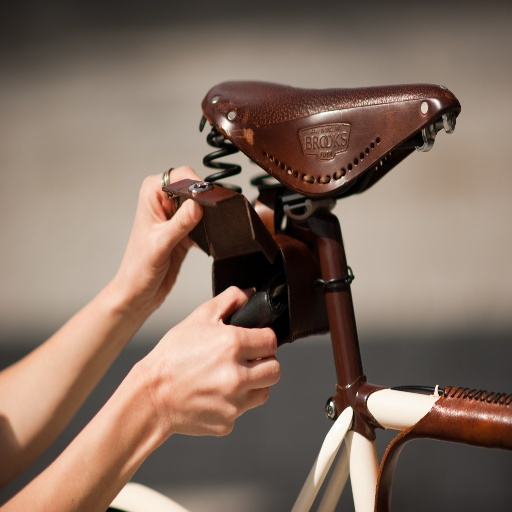hand: (182, 270, 298, 432), (113, 161, 206, 318)
